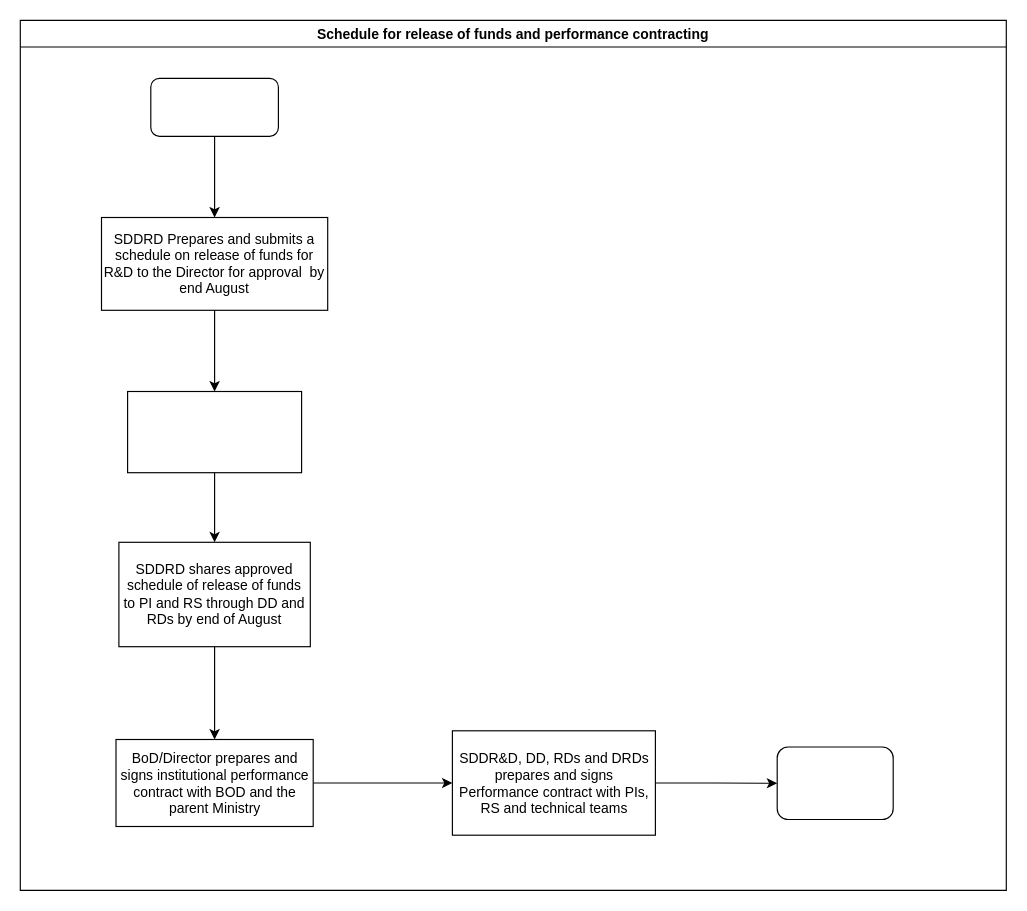
Some shapes in this 1027 by 911 pixel diagram are drawn without their labels. Here are the shapes that lost their labels. From the top down, the centre of each, then its label:
At (x=214, y=106): "Start".
At (x=214, y=431): "Director approves schedule on release of funds by end of August".
At (x=834, y=783): "End".
